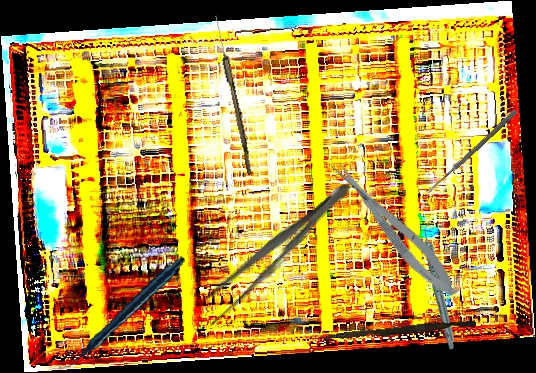Dressing Forceps: (191, 171, 360, 332)
Handpiece: (46, 255, 197, 370), (421, 220, 458, 350)
Micro Scissor: (325, 151, 465, 306)
Pusher: (317, 316, 477, 346)
Surgical Spoon: (425, 108, 518, 196), (211, 14, 256, 176)
